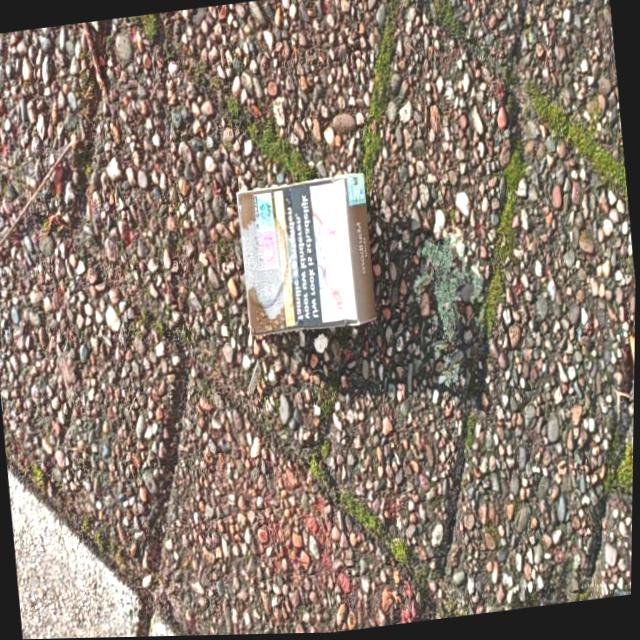Paper: (231, 168, 382, 344)
